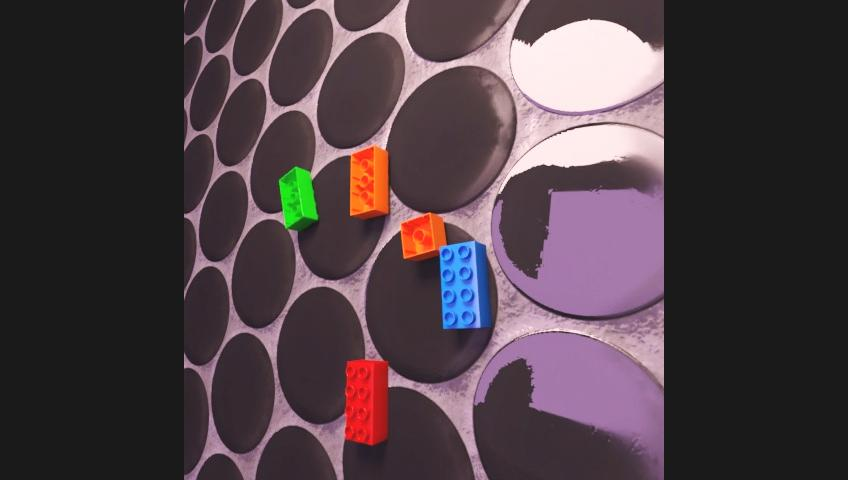2x2_orange: (400, 212, 446, 259)
4x2_blue: (439, 241, 491, 328)
4x2_green: (278, 168, 317, 231)
4x2_orange: (349, 145, 388, 219)
4x2_red: (345, 359, 387, 444)
